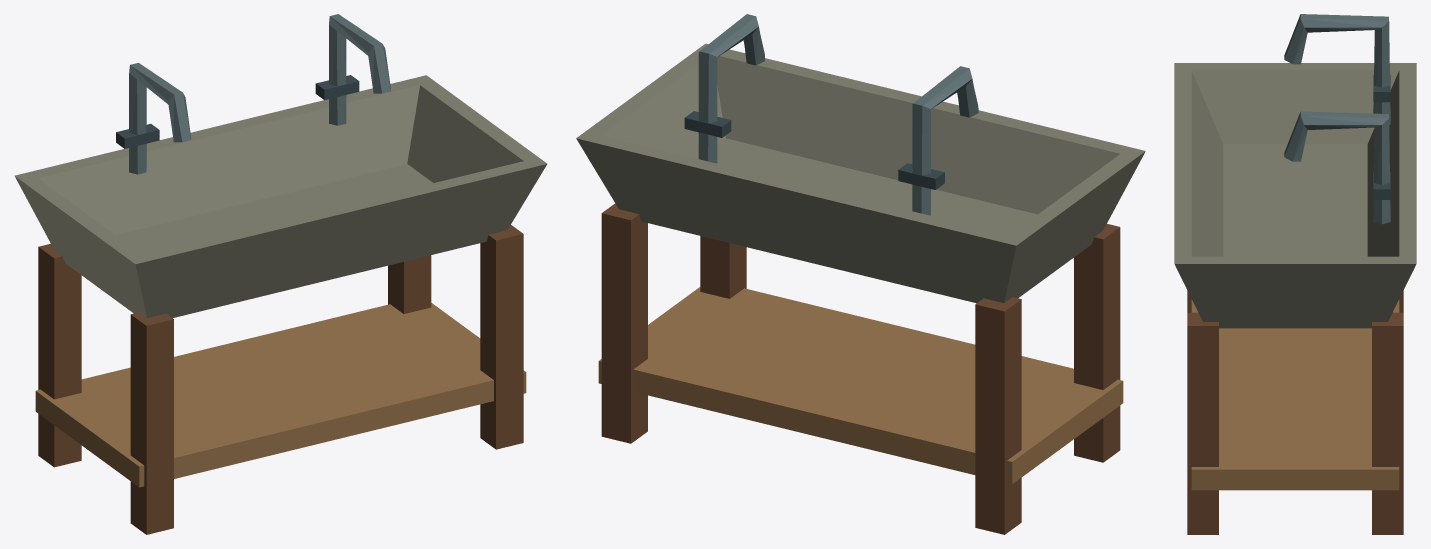
File: Prop_Daily_OutdoorWashbasin_001_LOD1.glb
3 renders of one model, left to right at view 1: azimuth 30°, elevation 25°; view 2: azimuth 150°, elevation 25°; view 3: azimuth 270°, elevation 25°, orthographic. The views are drawn at different scales.
Visible parts, largest first — view 1: Prop_Daily_OutdoorWashbasin_001_LOD1; view 2: Prop_Daily_OutdoorWashbasin_001_LOD1; view 3: Prop_Daily_OutdoorWashbasin_001_LOD1.
Part boxes in pixels (bbox=[...]): Prop_Daily_OutdoorWashbasin_001_LOD1: bbox=[14, 14, 547, 534]; Prop_Daily_OutdoorWashbasin_001_LOD1: bbox=[576, 14, 1145, 534]; Prop_Daily_OutdoorWashbasin_001_LOD1: bbox=[1174, 14, 1416, 534].
Bounding box in the file's own units: 1.65 × 1.45 × 0.84.
